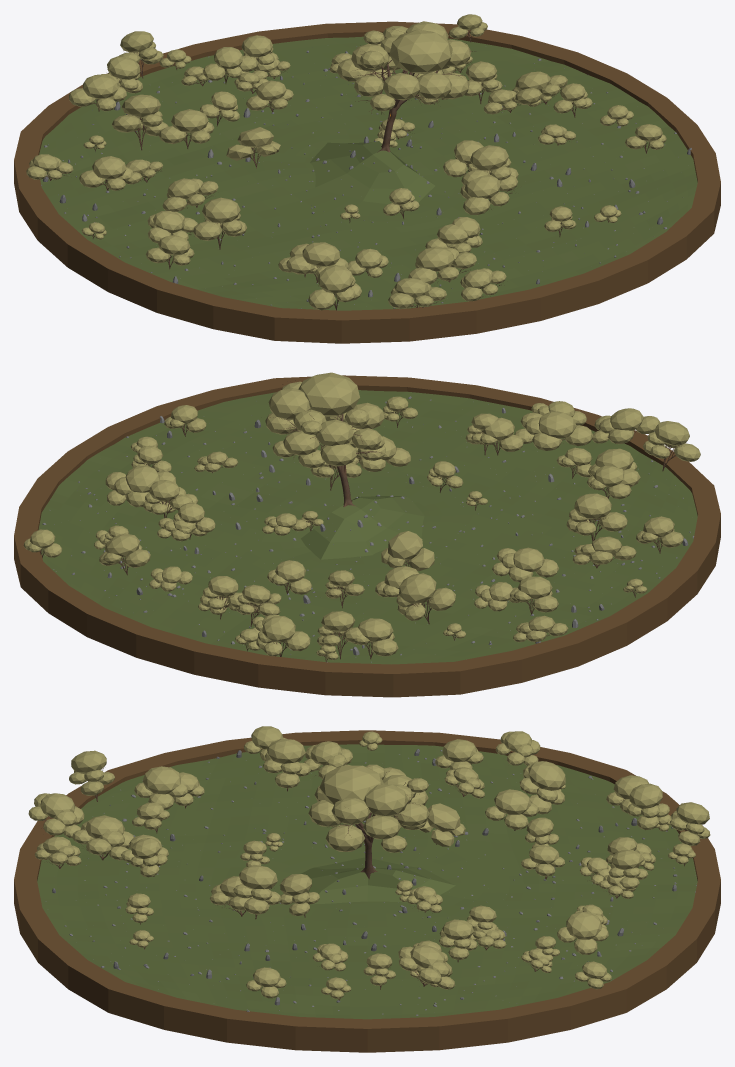
The model's file is SwarmFight_ENV01.0010.glb.
The picture shows the model from 3 angles, top to bottom: view 1: azimuth 30°, elevation 25°; view 2: azimuth 150°, elevation 25°; view 3: azimuth 270°, elevation 25°; orthographic projection. The views are drawn at different scales.
Visible parts, largest first — view 1: Plane.014, Plane.015, Plane.013, Icosphere.006, tree.017, tree.012, tree.039, tree.057, tree.011, tree.043, tree.031, tree.024 (+32 smaller); view 2: Plane.014, Plane.015, Plane.013, tree.017, Icosphere.006, tree.012, tree.039, tree.050, tree.035, tree.057, tree.020, tree.021 (+39 smaller); view 3: Plane.014, Plane.015, Plane.013, tree.017, tree.012, Icosphere.006, tree.035, tree.039, tree.050, tree.024, tree.010, tree.007 (+38 smaller).
Part boxes in pixels (x1,y1,x2,y2): Plane.014: (39, 36, 697, 310); Plane.015: (14, 21, 720, 343); Plane.013: (310, 141, 434, 203); Icosphere.006: (389, 29, 452, 74); tree.017: (408, 246, 476, 284); tree.012: (112, 94, 168, 150); tree.039: (193, 197, 246, 249); tree.057: (308, 265, 361, 310); tree.011: (460, 172, 517, 215); tree.043: (69, 74, 126, 111); tree.031: (158, 109, 214, 148); tree.024: (461, 145, 518, 186); Plane.014: (38, 390, 697, 664); Plane.015: (14, 375, 720, 697); Plane.013: (301, 496, 424, 559); tree.017: (514, 411, 593, 450); Icosphere.006: (298, 372, 359, 417); tree.012: (396, 573, 455, 624); tree.039: (566, 493, 627, 541); tree.050: (105, 465, 175, 507); tree.035: (592, 408, 660, 444); tree.057: (643, 421, 700, 471); tree.020: (492, 547, 558, 582); tree.021: (256, 616, 310, 656); Plane.014: (37, 744, 697, 1019); Plane.015: (14, 730, 720, 1052); Plane.013: (279, 857, 455, 904); tree.017: (72, 815, 133, 860); tree.012: (519, 761, 565, 814); Icosphere.006: (319, 765, 384, 804); tree.035: (28, 793, 84, 838); tree.039: (263, 738, 310, 791); tree.050: (398, 945, 455, 989); tree.024: (233, 865, 280, 919); tree.010: (134, 766, 187, 809); tree.007: (557, 911, 608, 954).
Size of the model in its own units: 472 by 116 by 472.
6 materials, 2 textured.
